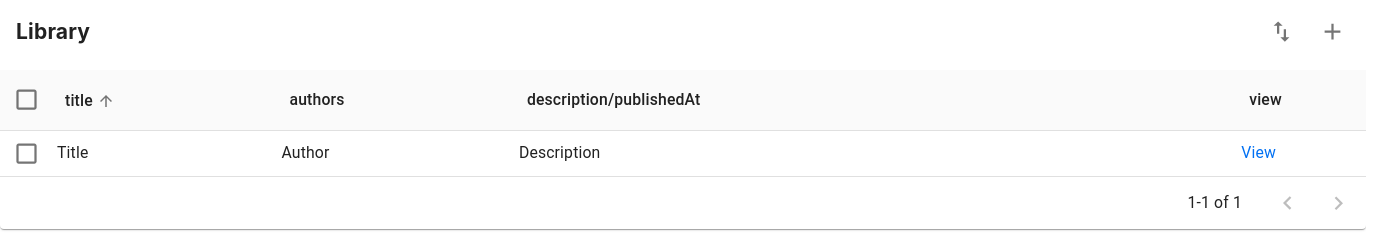
Test case: Pages › Table › select all
Step 1. Click the 2nd checkbox → (26, 154), box [13, 140, 40, 167]
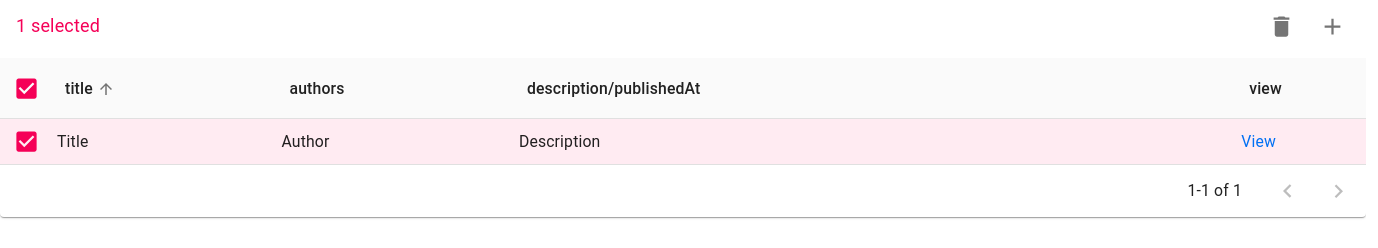
expect the 1st checkbox is checked: met, box [13, 75, 40, 102]
